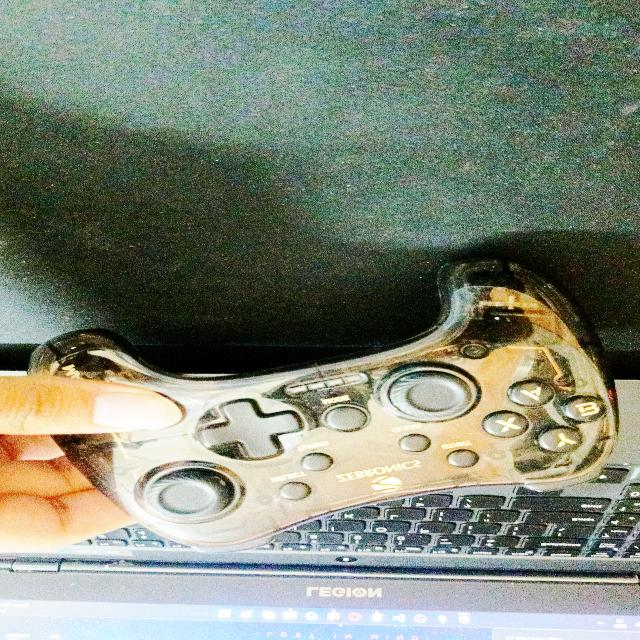gamepad: (25, 256, 620, 553)
